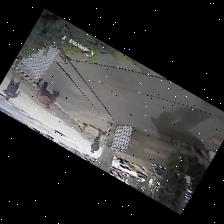person: (36, 80, 58, 107), (2, 73, 22, 98), (91, 132, 100, 152)
